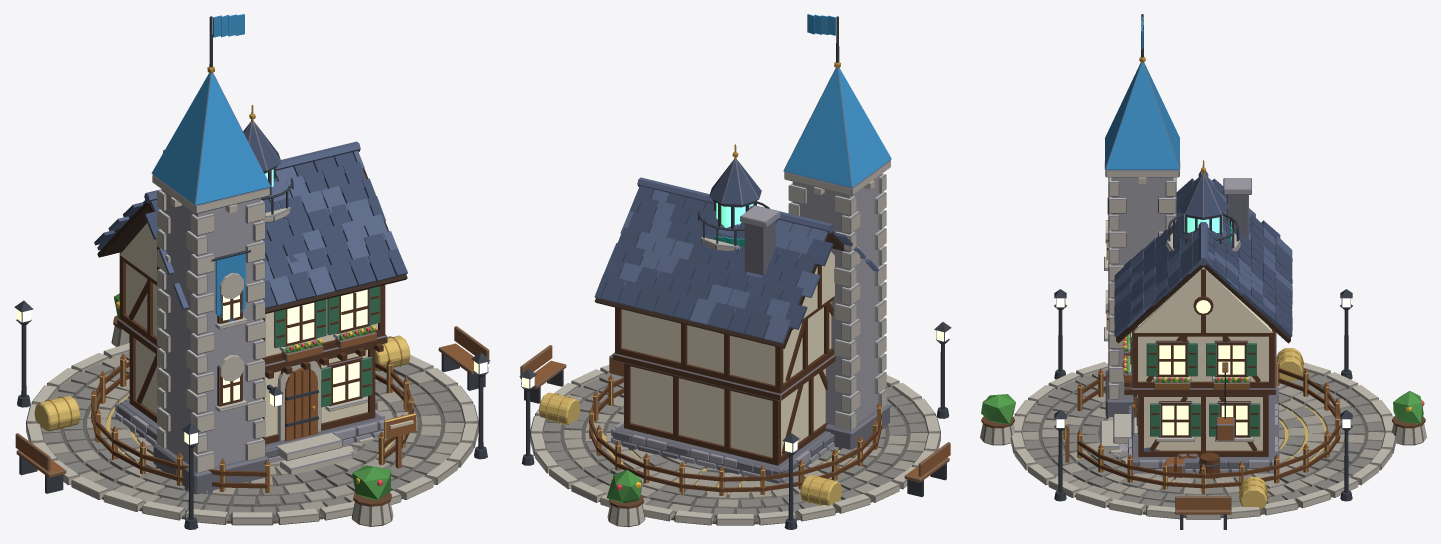
File: kit.glb
The picture shows the model from 3 angles, left to right: view 1: azimuth 30°, elevation 25°; view 2: azimuth 150°, elevation 25°; view 3: azimuth 270°, elevation 25°; orthographic projection. The views are drawn at different scales.
Parts seen in each view (by area): view 1: hq, plaza, nursery, tower_ci; view 2: hq, plaza, nursery, tower_ci; view 3: hq, plaza, nursery, tower_ci, tower_release.
Boxes of the visible parts, bbox=[...] form: hq: bbox=[94, 14, 407, 494]; plaza: bbox=[14, 293, 490, 529]; nursery: bbox=[34, 335, 416, 493]; tower_ci: bbox=[243, 105, 293, 222]; hq: bbox=[594, 14, 891, 483]; plaza: bbox=[519, 322, 951, 529]; nursery: bbox=[539, 375, 881, 505]; tower_ci: bbox=[698, 144, 769, 250]; hq: bbox=[1100, 14, 1292, 475]; plaza: bbox=[980, 289, 1426, 529]; nursery: bbox=[1063, 348, 1340, 509]; tower_ci: bbox=[1166, 160, 1240, 251]; tower_release: bbox=[1166, 218, 1234, 480].
Bounding box in the file's own units: 7.01 × 7.05 × 7.18.
